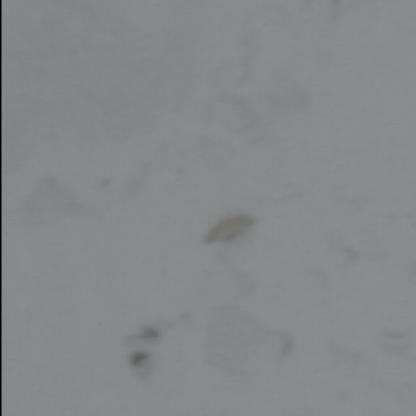polar-bear: (206, 213, 254, 241)
